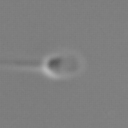normal: (1, 55, 43, 76)
